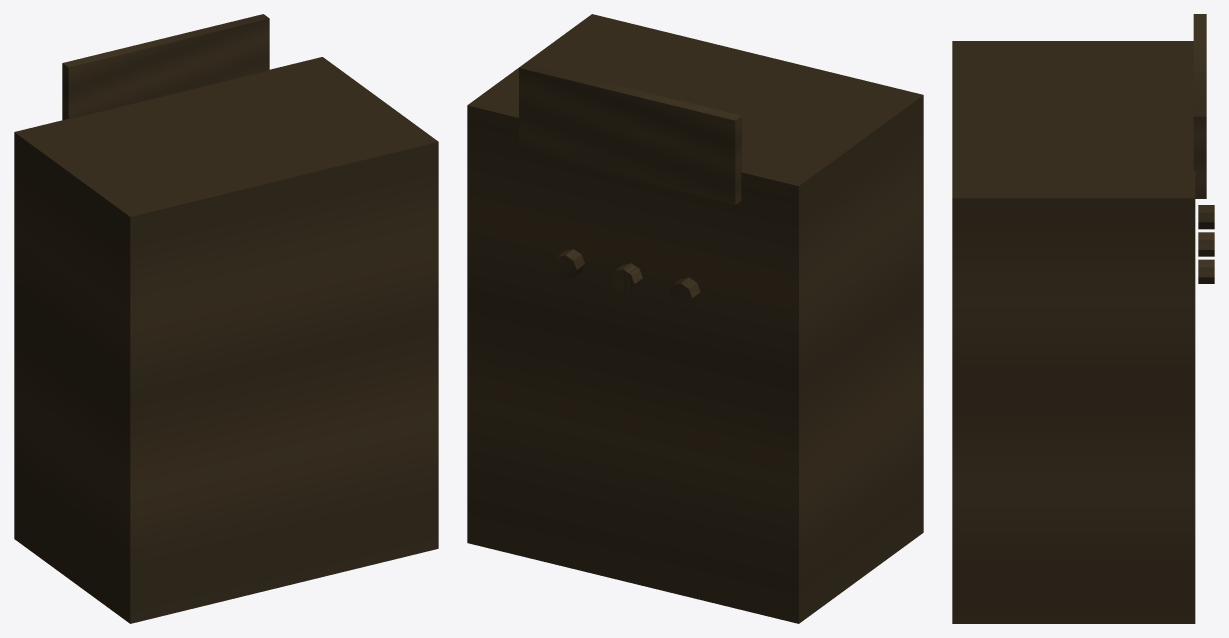
The model's file is env_latrine_wooden_a.glb.
3 views of the same model, side by side, from view 1: azimuth 30°, elevation 25°; view 2: azimuth 150°, elevation 25°; view 3: azimuth 270°, elevation 25° (orthographic). The views are drawn at different scales.
Visible parts, largest first — view 1: env_latrine_wooden_a; view 2: env_latrine_wooden_a; view 3: env_latrine_wooden_a.
Part boxes in pixels (x1=…): env_latrine_wooden_a: x1=14, y1=14, x2=438, y2=623; env_latrine_wooden_a: x1=467, y1=14, x2=923, y2=623; env_latrine_wooden_a: x1=952, y1=14, x2=1214, y2=623.
Size of the model in its own units: 1.15 by 1.66 by 0.81.
1 material, 1 textured.
